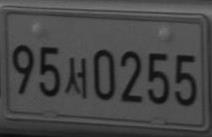0: (92, 48, 115, 101)
2: (119, 50, 143, 102)
5: (173, 53, 197, 106), (147, 52, 170, 104), (38, 46, 61, 97)
9: (11, 44, 34, 95)
서: (64, 57, 88, 98)
